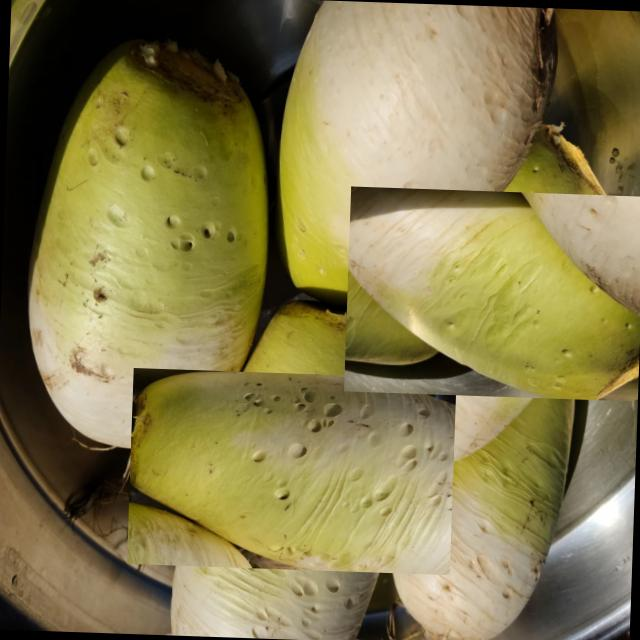radish: (157, 337, 426, 606), (369, 160, 637, 428)
